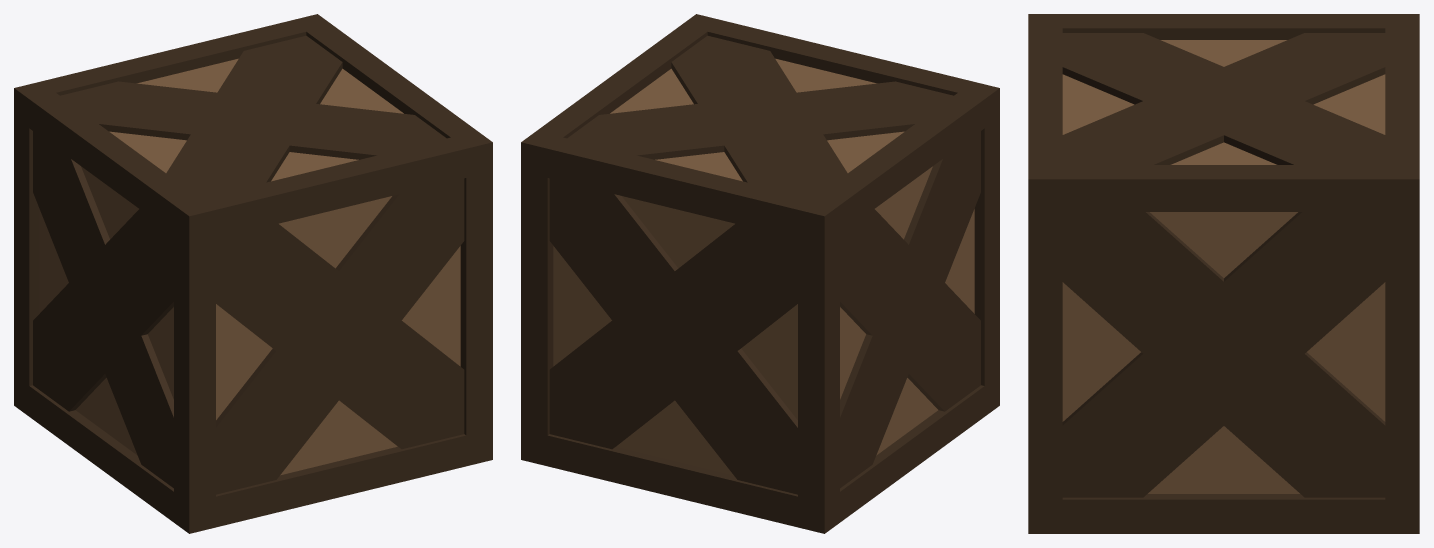
File: wooden box.fbx
3 views of the same model, side by side, from view 1: azimuth 30°, elevation 25°; view 2: azimuth 150°, elevation 25°; view 3: azimuth 270°, elevation 25° (orthographic). The views are drawn at different scales.
Parts seen in each view (by area): view 1: pCube1; view 2: pCube1; view 3: pCube1.
Boxes of the visible parts, x1=… form: pCube1: x1=14, y1=14, x2=492, y2=533; pCube1: x1=521, y1=14, x2=999, y2=533; pCube1: x1=1028, y1=14, x2=1419, y2=533.
Bounding box in the file's own units: 13 × 13 × 13.
